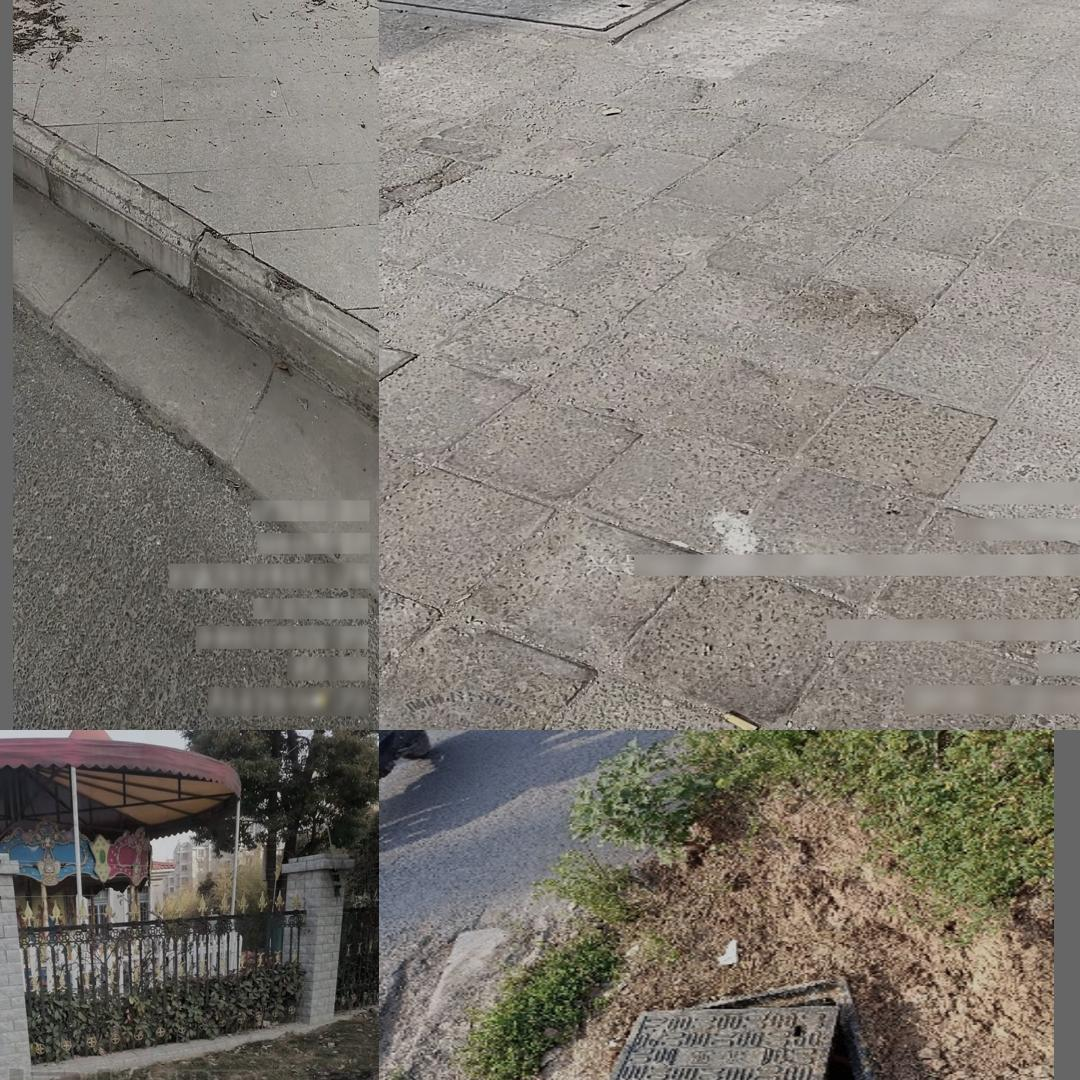good: (379, 0, 862, 41)
uncovered: (507, 974, 937, 1080)
